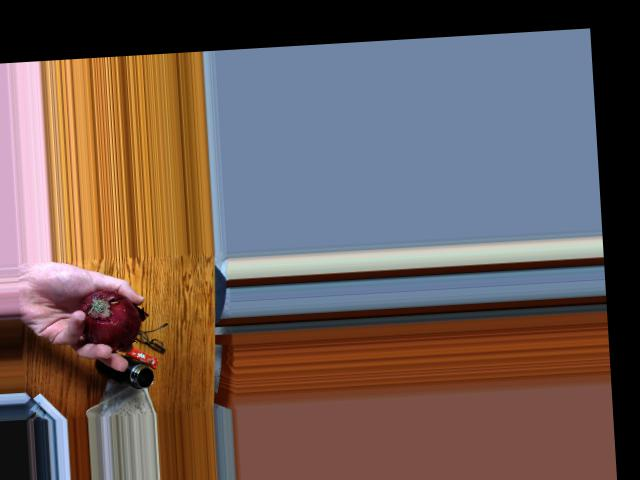onion: (73, 284, 137, 348)
